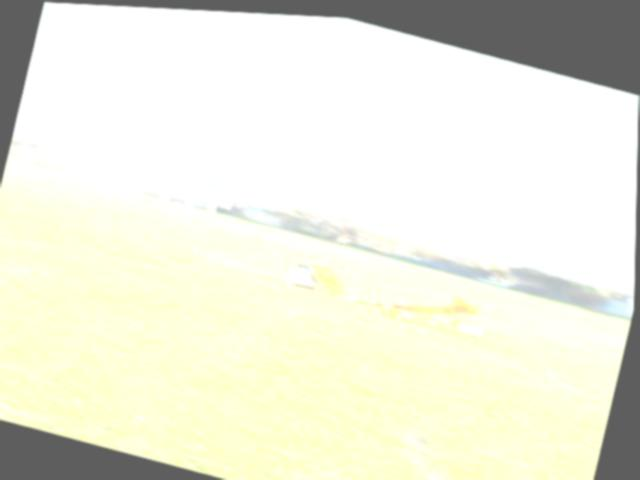iha: (274, 241, 502, 341)
